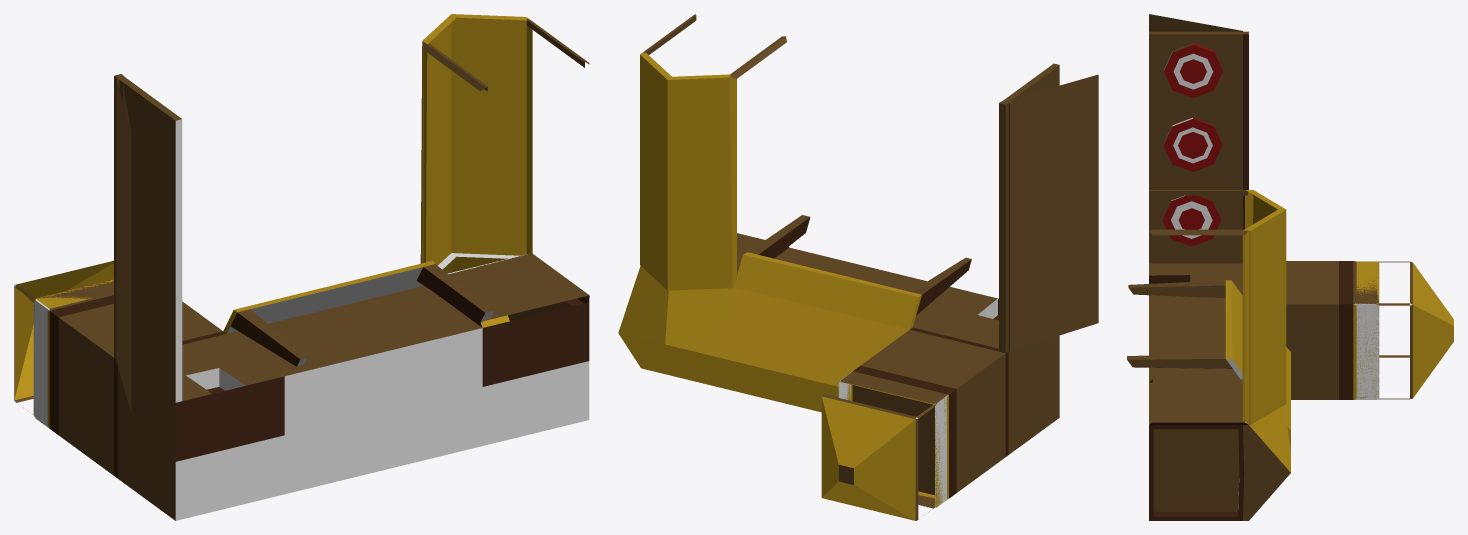
Rendered from Arqueria 1.fbx.
The picture shows the model from 3 angles, left to right: view 1: azimuth 30°, elevation 25°; view 2: azimuth 150°, elevation 25°; view 3: azimuth 270°, elevation 25°; orthographic projection. The views are drawn at different scales.
Visible parts, largest first — view 1: Arqueria; view 2: Arqueria; view 3: Arqueria.
Part boxes in pixels (bbox=[...]): Arqueria: bbox=[14, 14, 589, 520]; Arqueria: bbox=[618, 14, 1098, 520]; Arqueria: bbox=[1127, 14, 1453, 520].
Size of the model in its own units: 458 by 605 by 503.
